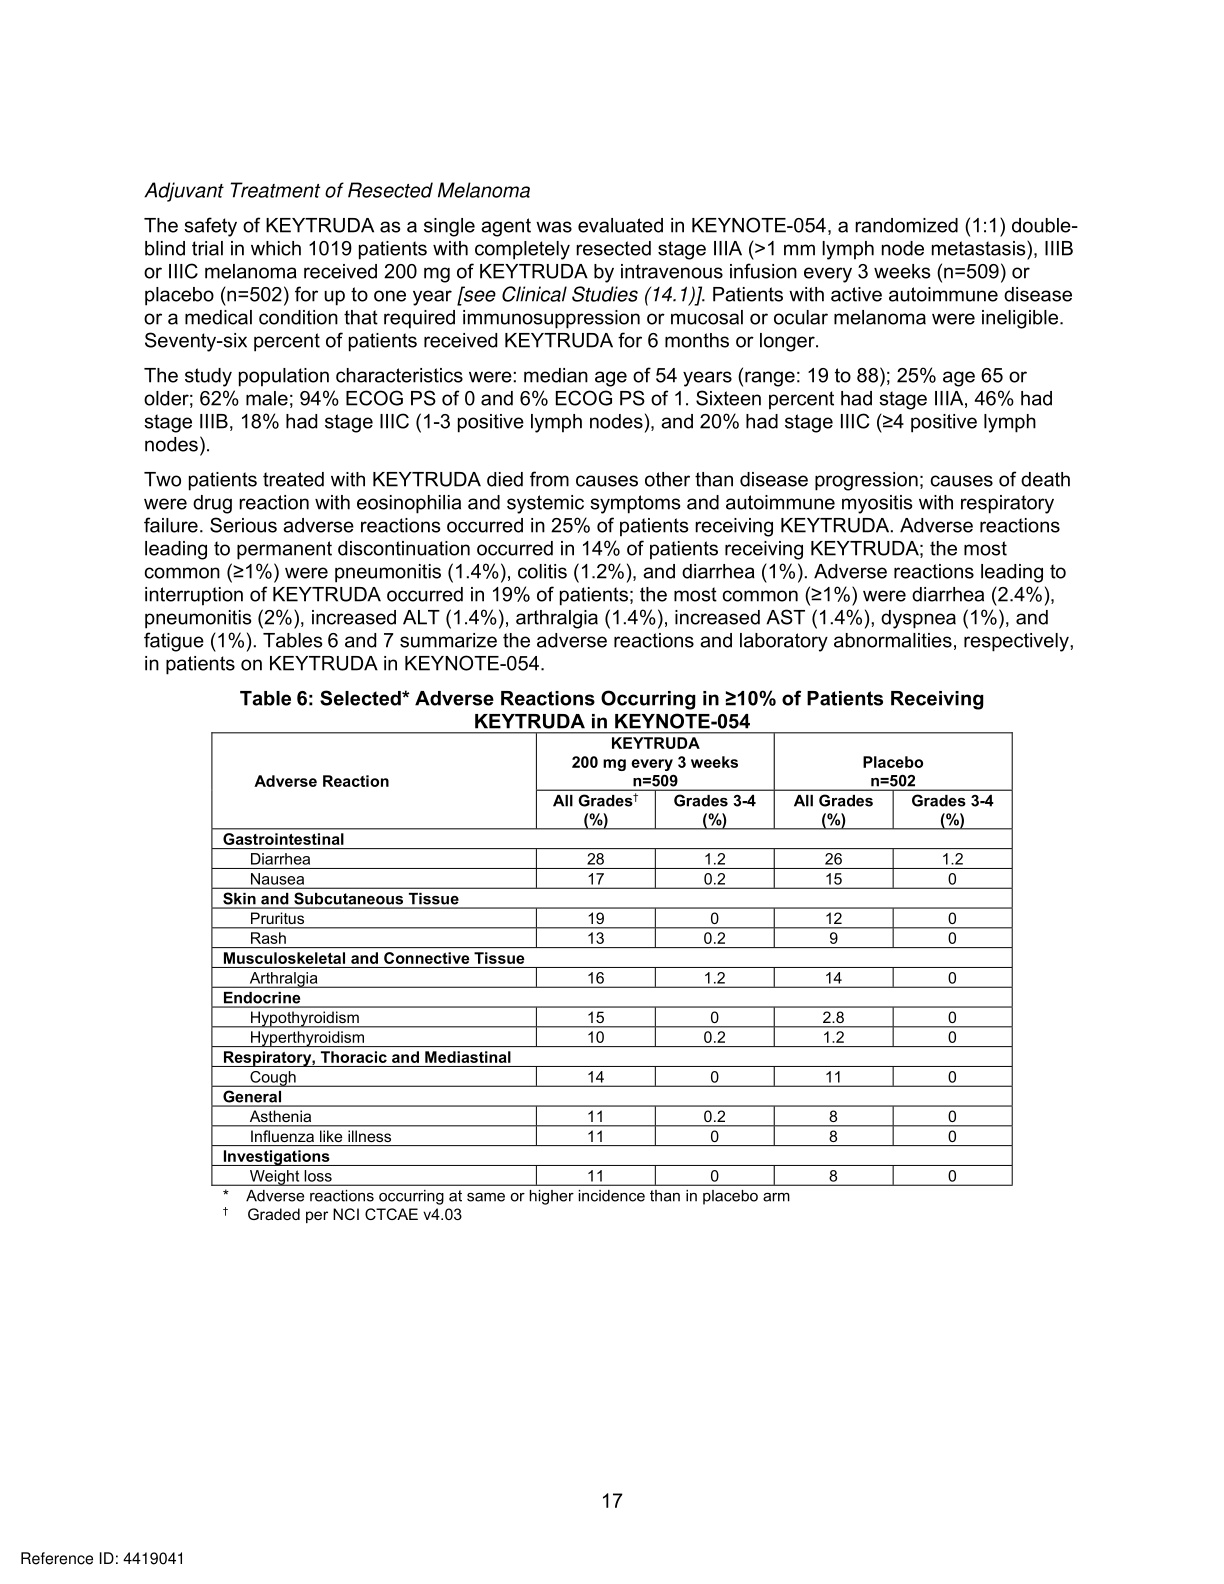merged_cells: (210, 732, 1014, 1187)
